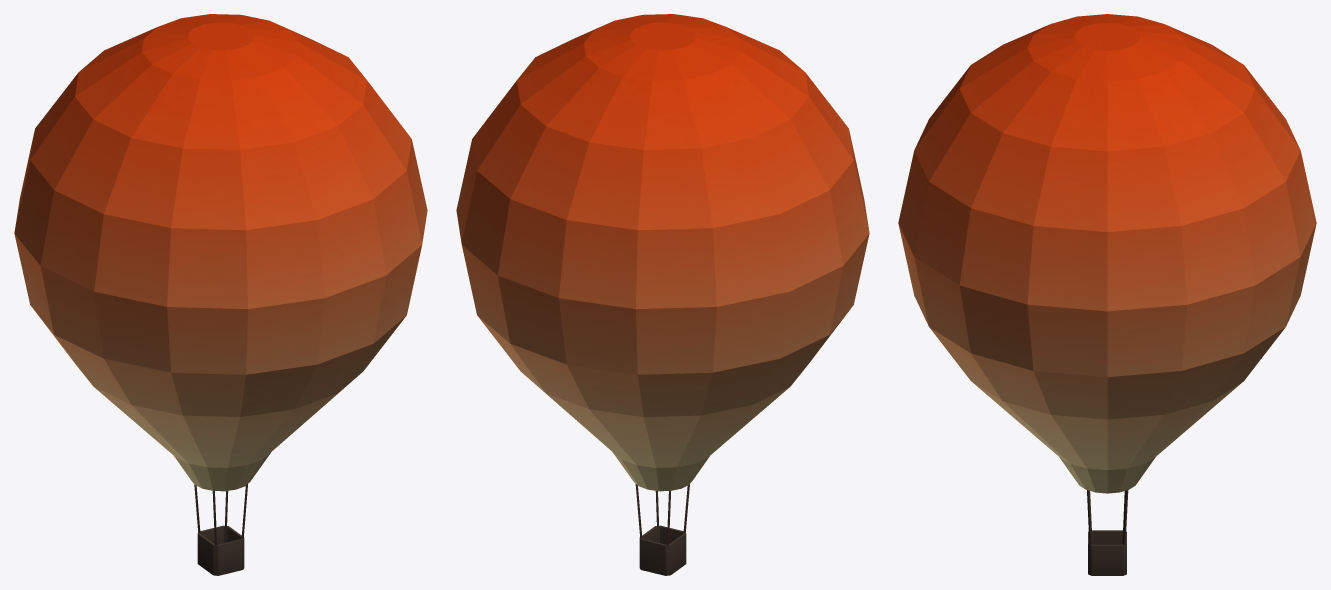
Rendered from prop_baloon_G.FBX.
The picture shows the model from 3 angles, left to right: view 1: azimuth 30°, elevation 25°; view 2: azimuth 150°, elevation 25°; view 3: azimuth 270°, elevation 25°; orthographic projection.
Visible parts, largest first — view 1: prop_baloon_G; view 2: prop_baloon_G; view 3: prop_baloon_G.
Boxes of the visible parts, x1=… form: prop_baloon_G: x1=14, y1=14, x2=427, y2=575; prop_baloon_G: x1=456, y1=14, x2=869, y2=575; prop_baloon_G: x1=898, y1=14, x2=1316, y2=575.
Bounding box in the file's own units: 591 × 828 × 591.
1 material, 1 textured.
